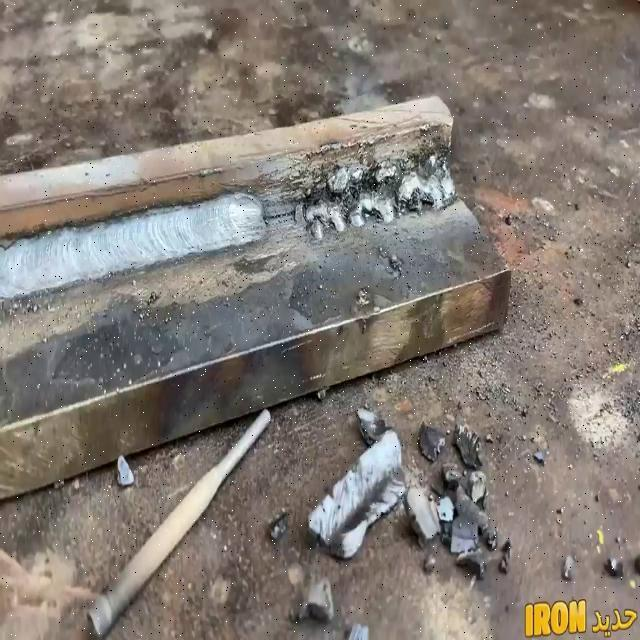Bad Welding: (289, 148, 457, 249)
Good Welding: (0, 186, 272, 302)
